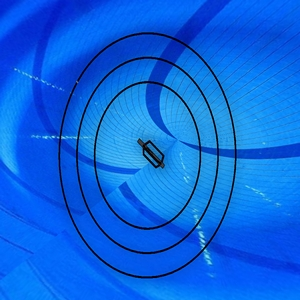circle: (56, 30, 242, 280)
submarine: (132, 133, 170, 173)
